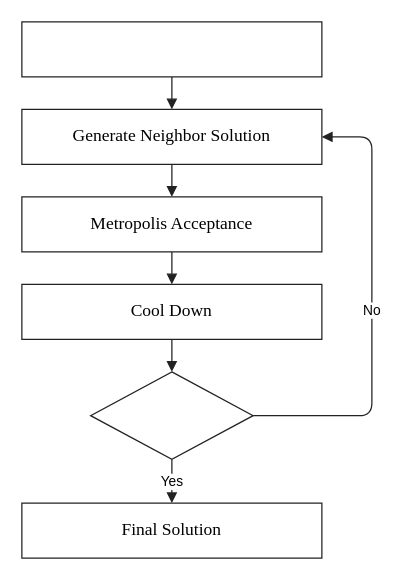
The diagram is 404 pixels wide and 580 high, and some of its shapes have lost their labels. The shapes that lost their labels are listed below. From the top down, each one's centre as x and y in pixels, then its label:
At (x=171, y=49): "Initial Solution and Temperature".
At (x=171, y=415): "Stop Criterion?".
